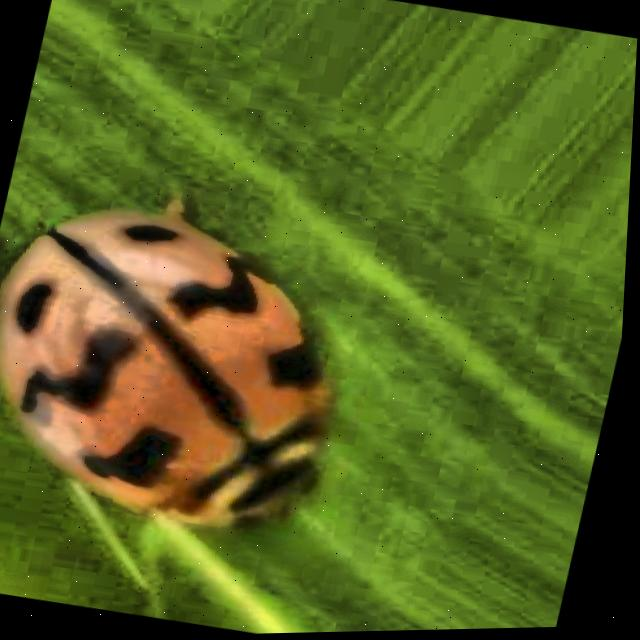Asian-Lady-beetle: (0, 125, 469, 621)
